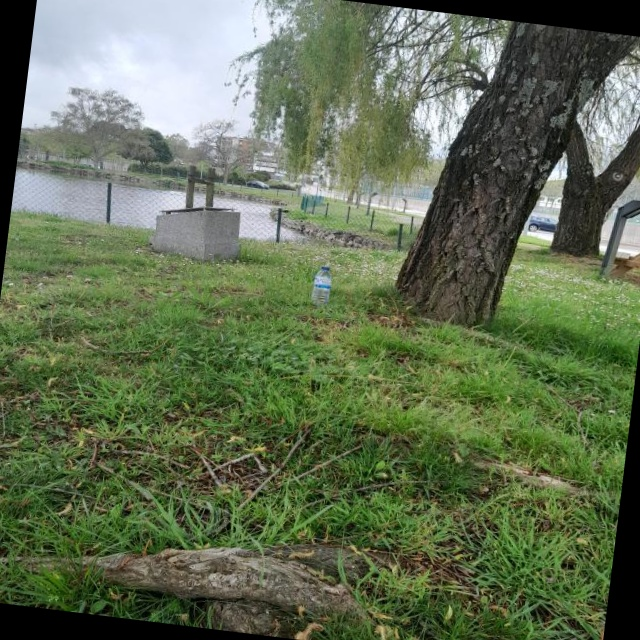Plastic-bottle: (308, 265, 328, 307)
